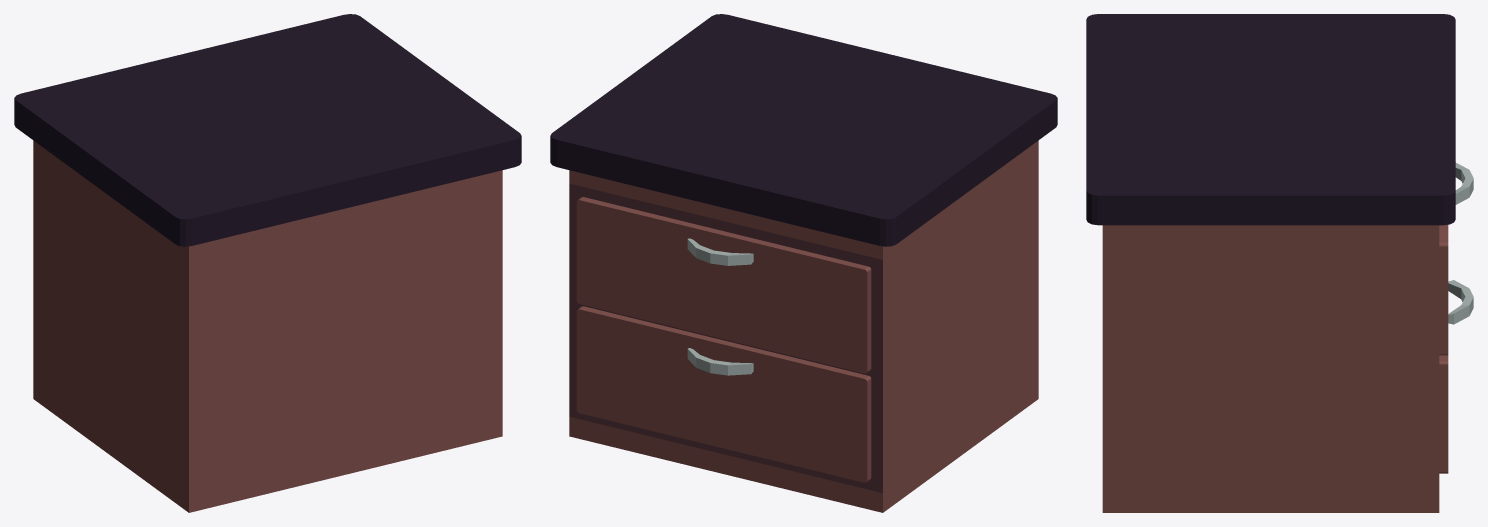
Rendered from BancadaPreta.fbx.
3 renders of one model, left to right at view 1: azimuth 30°, elevation 25°; view 2: azimuth 150°, elevation 25°; view 3: azimuth 270°, elevation 25°, orthographic. The views are drawn at different scales.
Visible parts, largest first — view 1: Cube.018; view 2: Cube.018; view 3: Cube.018.
Boxes of the visible parts, box(x1,y1,x2,y2) form: Cube.018: box(14, 14, 521, 512); Cube.018: box(550, 14, 1057, 512); Cube.018: box(1086, 14, 1473, 512).
Size of the model in its own units: 128 by 107 by 115.
